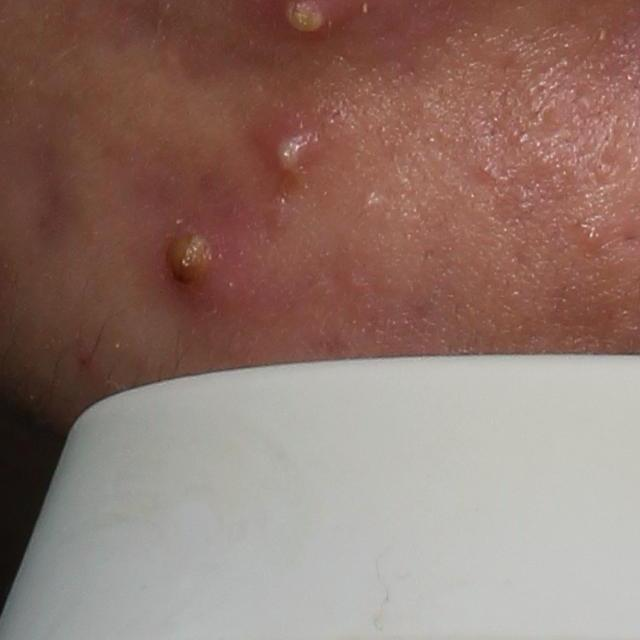comedo: (572, 220, 603, 251)
pustule: (148, 211, 239, 300), (257, 110, 328, 183)
